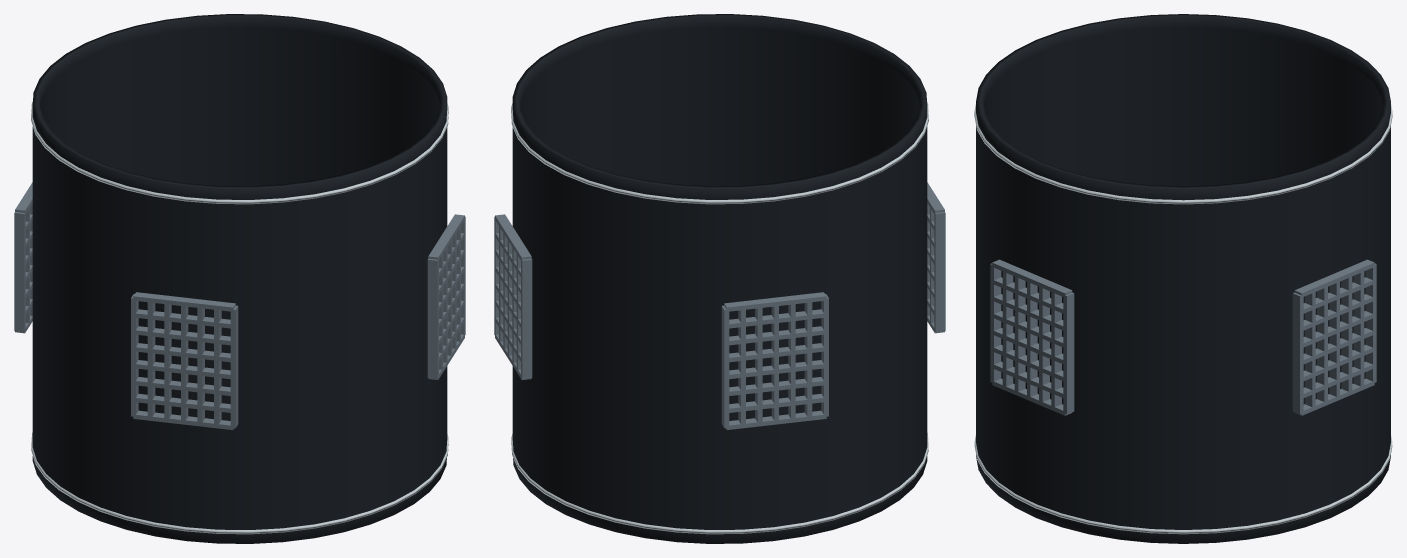
The model's file is falcon9_interstage.glb.
The picture shows the model from 3 angles, left to right: view 1: azimuth 30°, elevation 25°; view 2: azimuth 150°, elevation 25°; view 3: azimuth 270°, elevation 25°; orthographic projection.
Visible parts, largest first — view 1: falcon9_interstage.mesh_Carbon_composite, falcon9_interstage.grid_fin_04.mesh_Machined_steel, falcon9_interstage.grid_fin_01.mesh_Machined_steel, falcon9_interstage.mesh_Satin_aluminum, falcon9_interstage.grid_fin_03.mesh_Machined_steel; view 2: falcon9_interstage.mesh_Carbon_composite, falcon9_interstage.grid_fin_03.mesh_Machined_steel, falcon9_interstage.grid_fin_02.mesh_Machined_steel, falcon9_interstage.mesh_Satin_aluminum, falcon9_interstage.grid_fin_04.mesh_Machined_steel; view 3: falcon9_interstage.mesh_Carbon_composite, falcon9_interstage.grid_fin_01.mesh_Machined_steel, falcon9_interstage.grid_fin_02.mesh_Machined_steel, falcon9_interstage.mesh_Satin_aluminum.
Boxes of the visible parts, <box> form: falcon9_interstage.mesh_Carbon_composite: <box>32,14,447,543</box>; falcon9_interstage.grid_fin_04.mesh_Machined_steel: <box>131,292,238,429</box>; falcon9_interstage.grid_fin_01.mesh_Machined_steel: <box>427,214,465,379</box>; falcon9_interstage.mesh_Satin_aluminum: <box>31,101,448,534</box>; falcon9_interstage.grid_fin_03.mesh_Machined_steel: <box>14,182,32,333</box>; falcon9_interstage.mesh_Carbon_composite: <box>512,14,927,543</box>; falcon9_interstage.grid_fin_03.mesh_Machined_steel: <box>721,292,828,429</box>; falcon9_interstage.grid_fin_02.mesh_Machined_steel: <box>494,214,532,379</box>; falcon9_interstage.mesh_Satin_aluminum: <box>511,101,928,534</box>; falcon9_interstage.grid_fin_04.mesh_Machined_steel: <box>927,182,945,333</box>; falcon9_interstage.mesh_Carbon_composite: <box>976,14,1390,543</box>; falcon9_interstage.grid_fin_01.mesh_Machined_steel: <box>990,259,1074,415</box>; falcon9_interstage.grid_fin_02.mesh_Machined_steel: <box>1292,259,1376,415</box>; falcon9_interstage.mesh_Satin_aluminum: <box>974,104,1392,534</box>.
Size of the model in its own units: 3.69 by 3.45 by 3.69.
